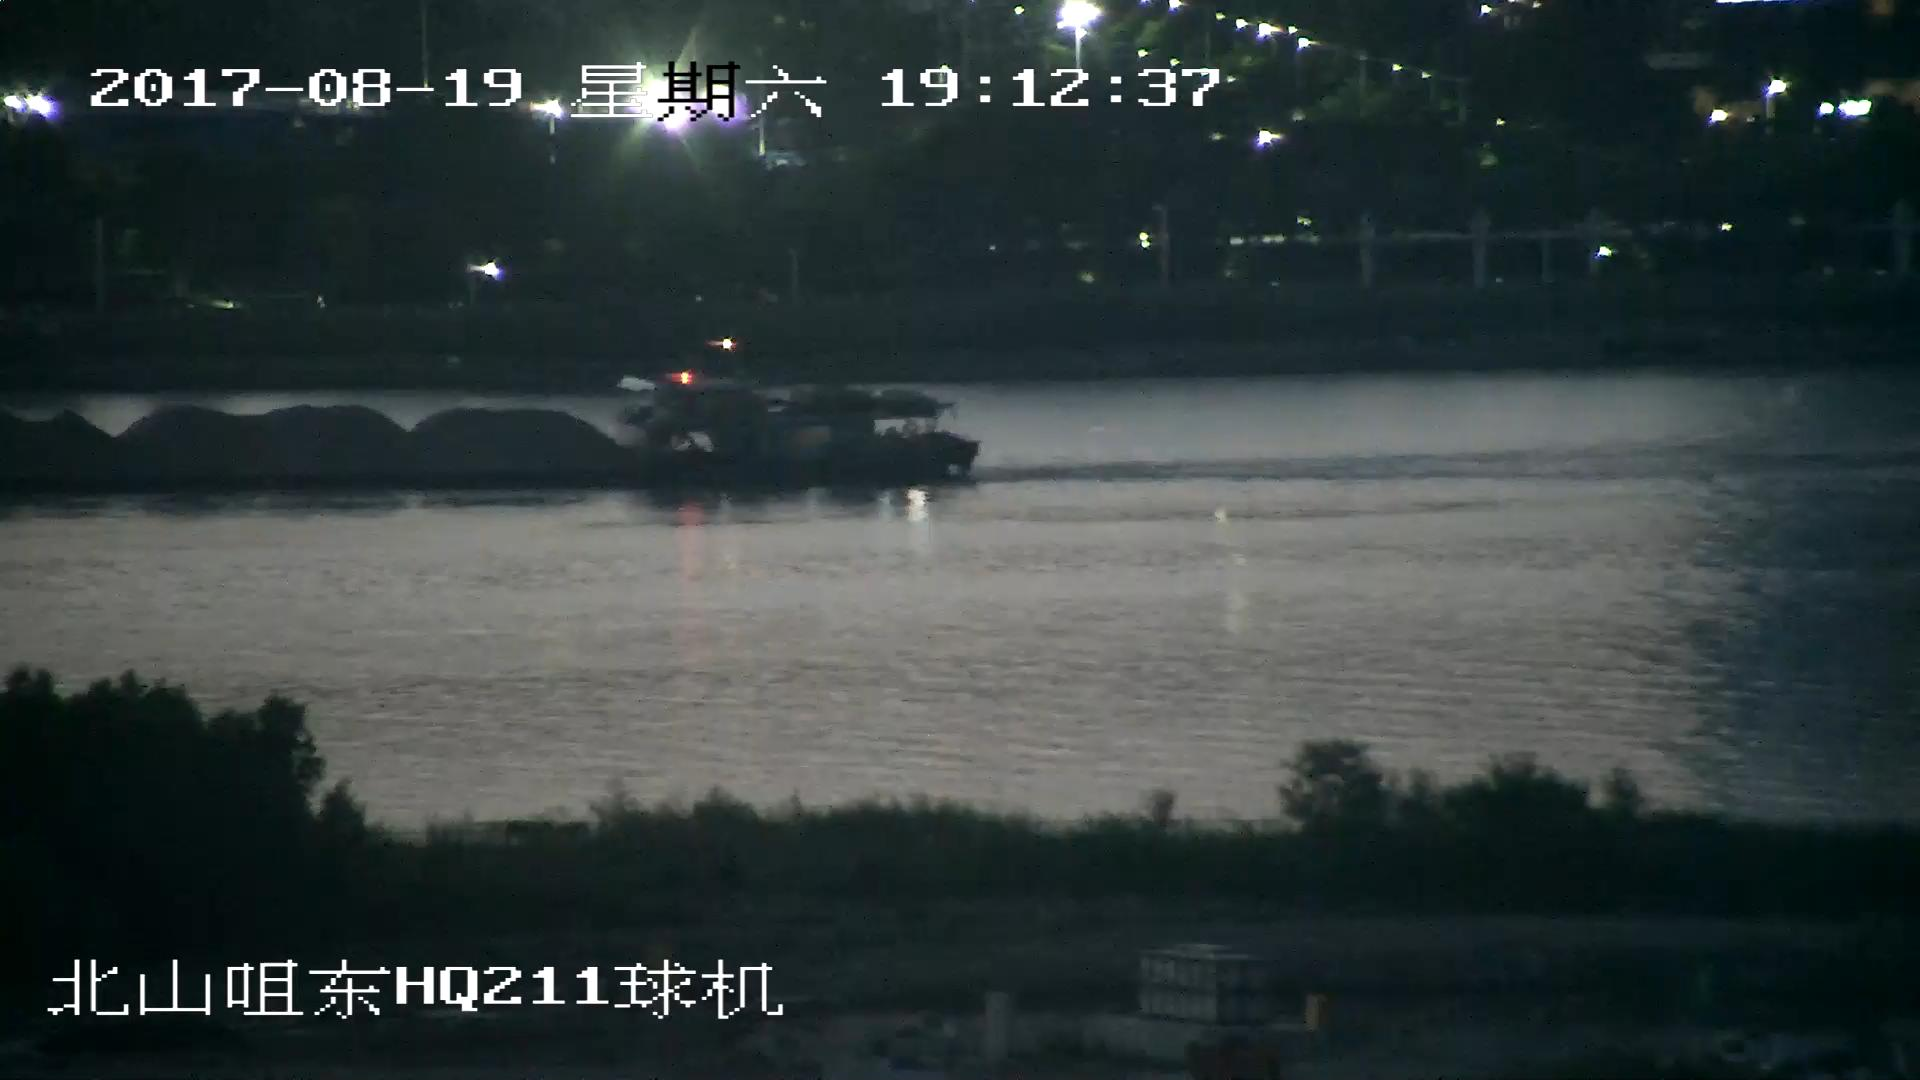ore carrier: (1, 359, 978, 502)
